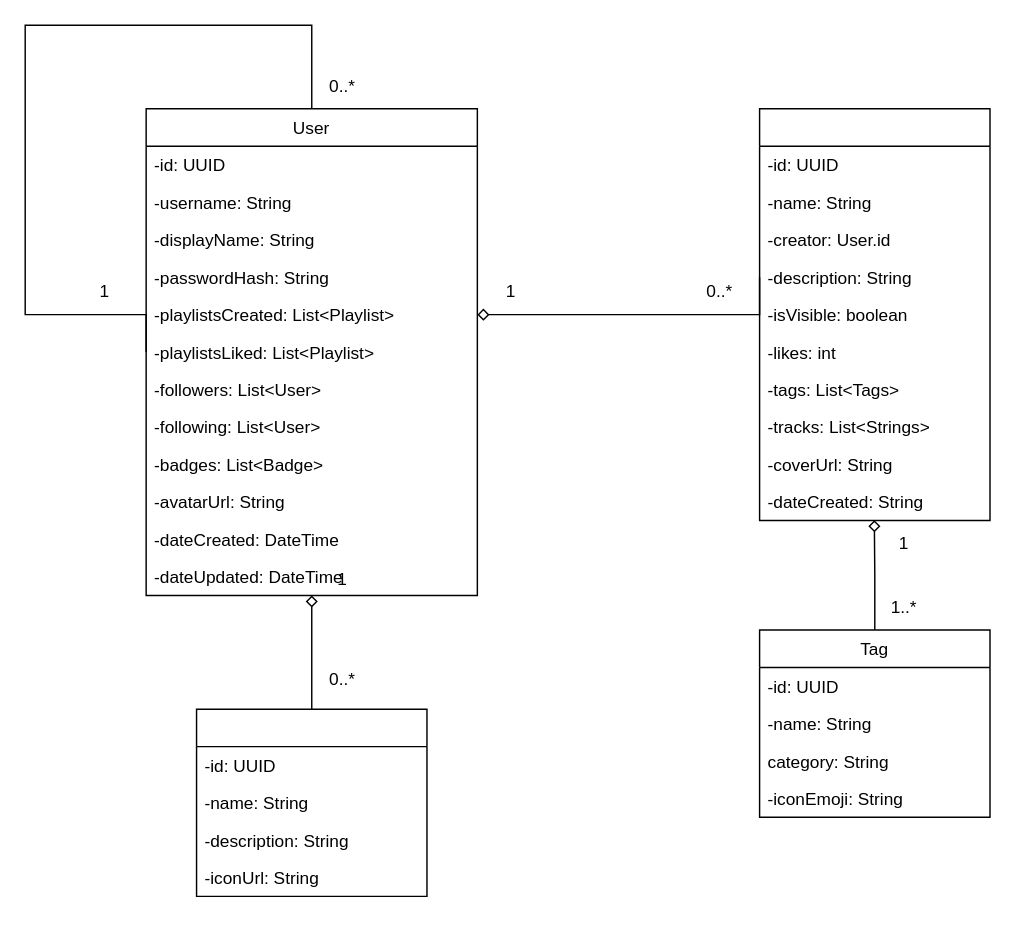
Some shapes in this 1015 by 926 pixel diagram are drawn without their labels. The box of each missing label's shape, as (x1, y1, x2, y2) in pixels:
Badge: (195, 708, 427, 896)
Playlist: (758, 107, 990, 521)
